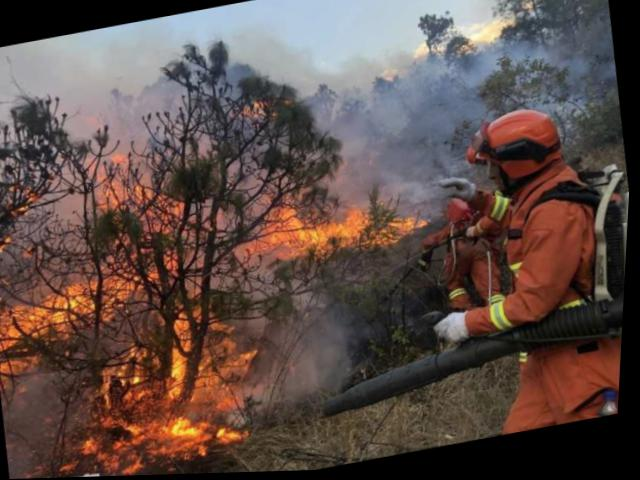fire: (0, 92, 464, 479)
